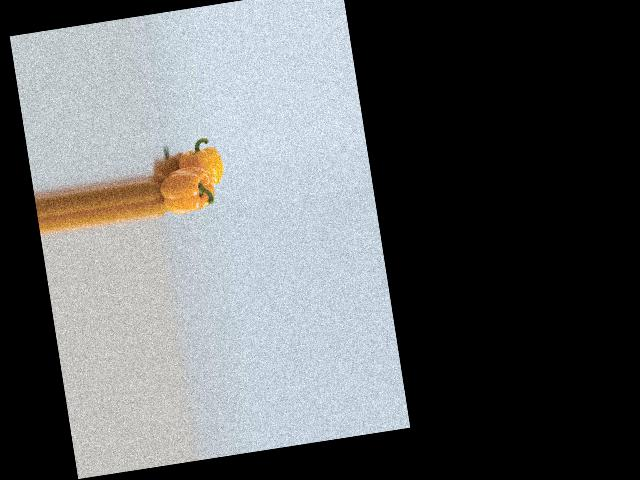bell_pepper: (167, 136, 226, 192)
